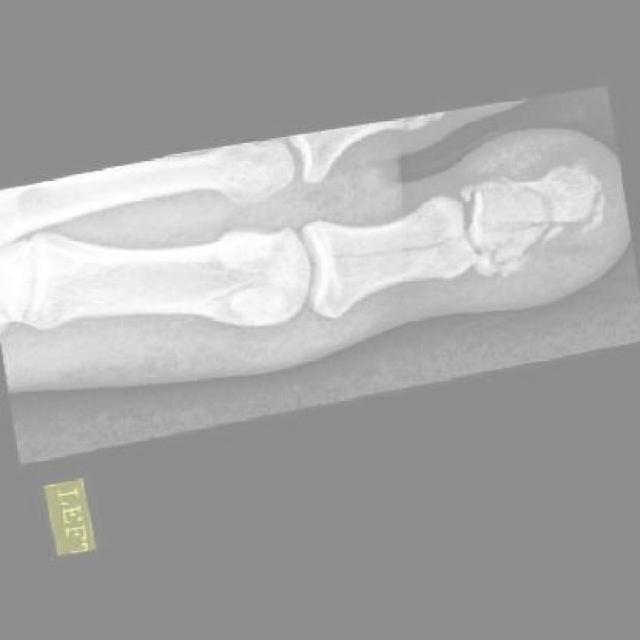Fracture: (448, 148, 621, 281)
